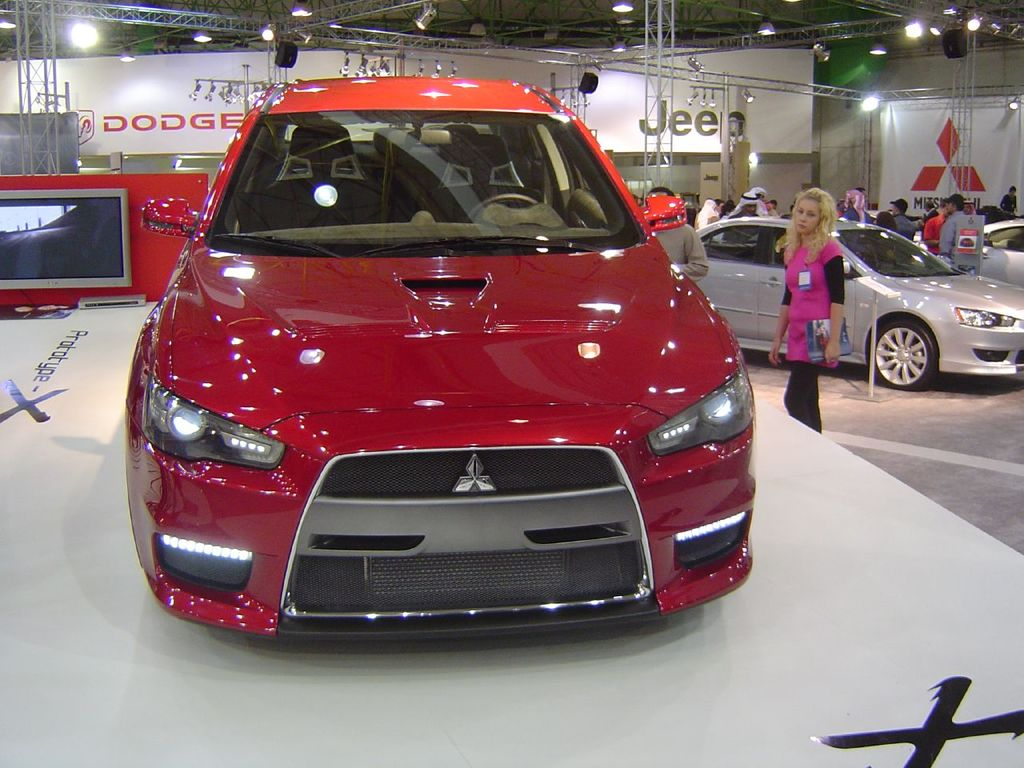Person: (694, 185, 980, 275), (764, 186, 848, 434), (650, 186, 708, 284), (998, 183, 1019, 217)
